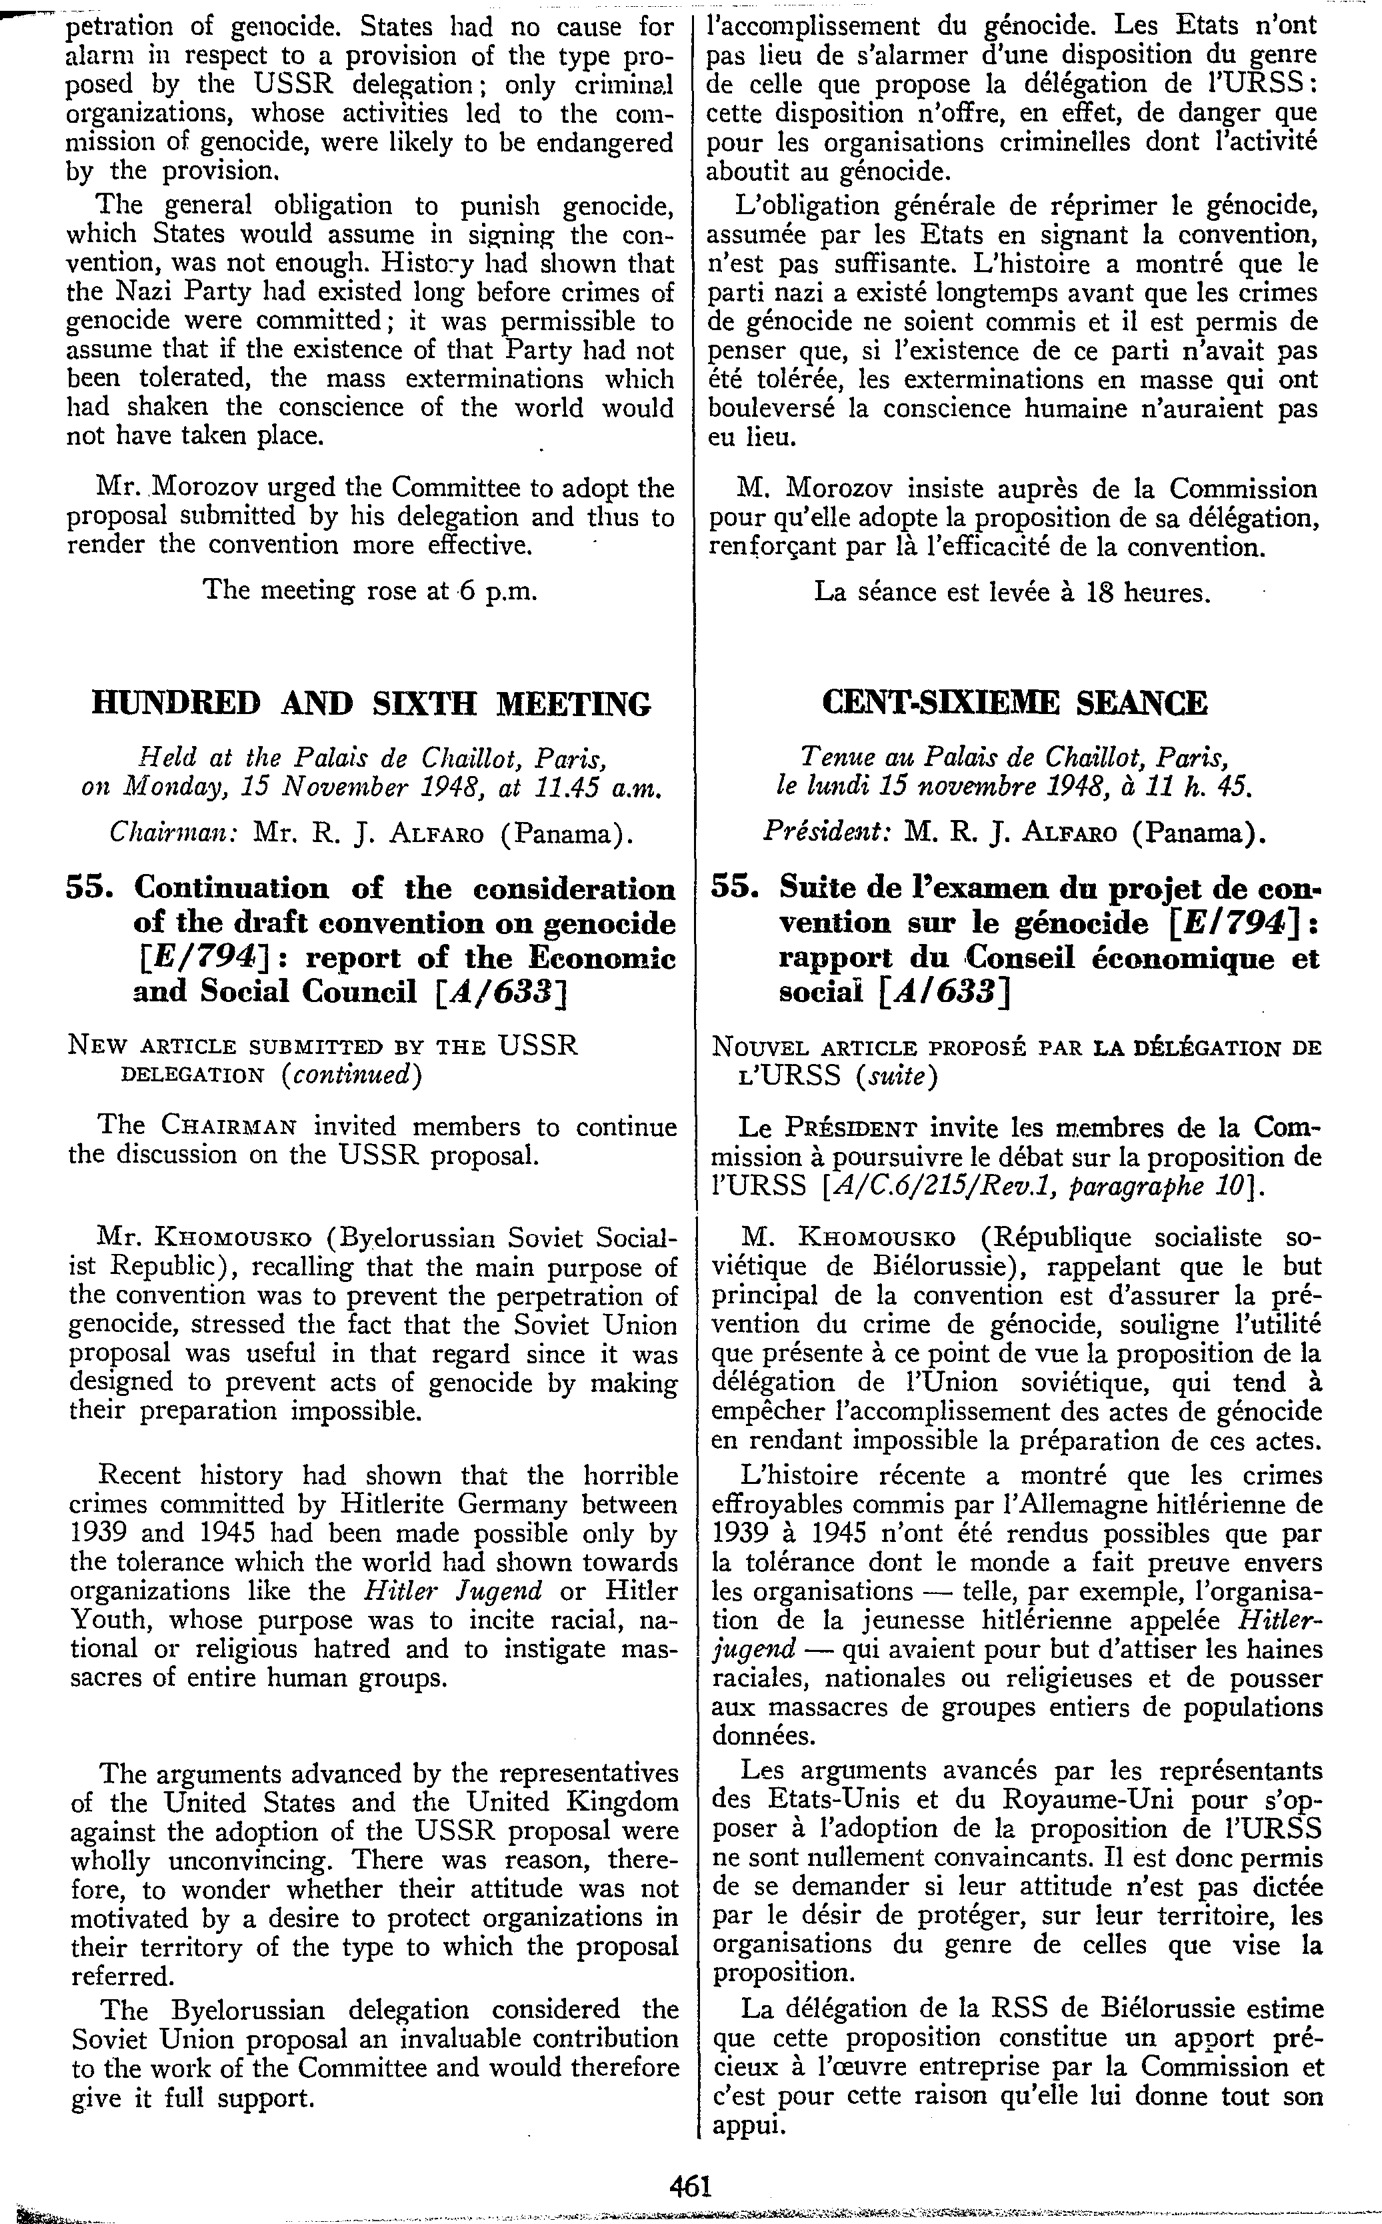MainZone-Continued: (699, 6, 1327, 188), (49, 10, 677, 186)
MainZone-Head: (48, 869, 685, 1017), (702, 865, 1330, 1015), (703, 1030, 1328, 1098), (55, 1030, 585, 1090), (84, 684, 660, 726), (807, 677, 1221, 725)
MainZone-Other: (62, 744, 672, 806), (761, 743, 1261, 803), (96, 813, 641, 858), (750, 814, 1272, 852)
MainZone-P: (699, 1460, 1328, 1750), (699, 188, 1327, 456), (51, 188, 676, 452), (59, 1457, 684, 1699), (705, 1217, 1329, 1454), (61, 1754, 686, 1990), (707, 1755, 1331, 1987), (59, 1218, 684, 1430), (706, 1991, 1335, 2142), (62, 1992, 684, 2119), (703, 1108, 1329, 1206), (701, 468, 1326, 566), (52, 469, 680, 559), (54, 1108, 679, 1175), (792, 570, 1239, 617), (187, 571, 545, 616)
TitlePageZone: (662, 2171, 714, 2205)
